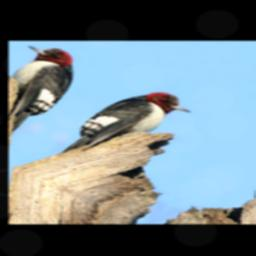Woodpecker: (53, 79, 199, 176)
